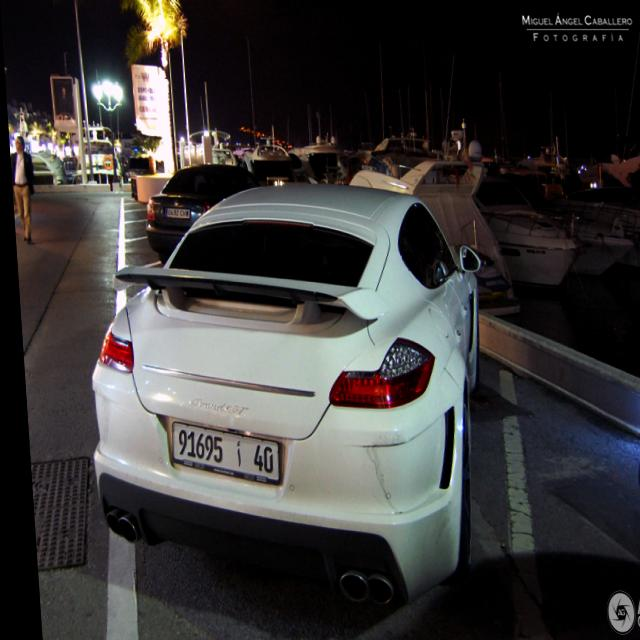License-Plate: (167, 424, 272, 480)
